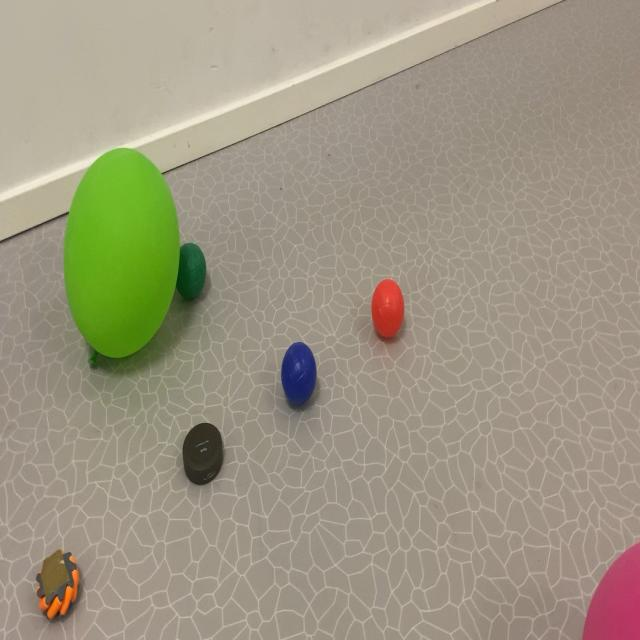7: (327, 246, 414, 364)
green ball: (266, 317, 324, 445)
red ball: (163, 210, 230, 322)
